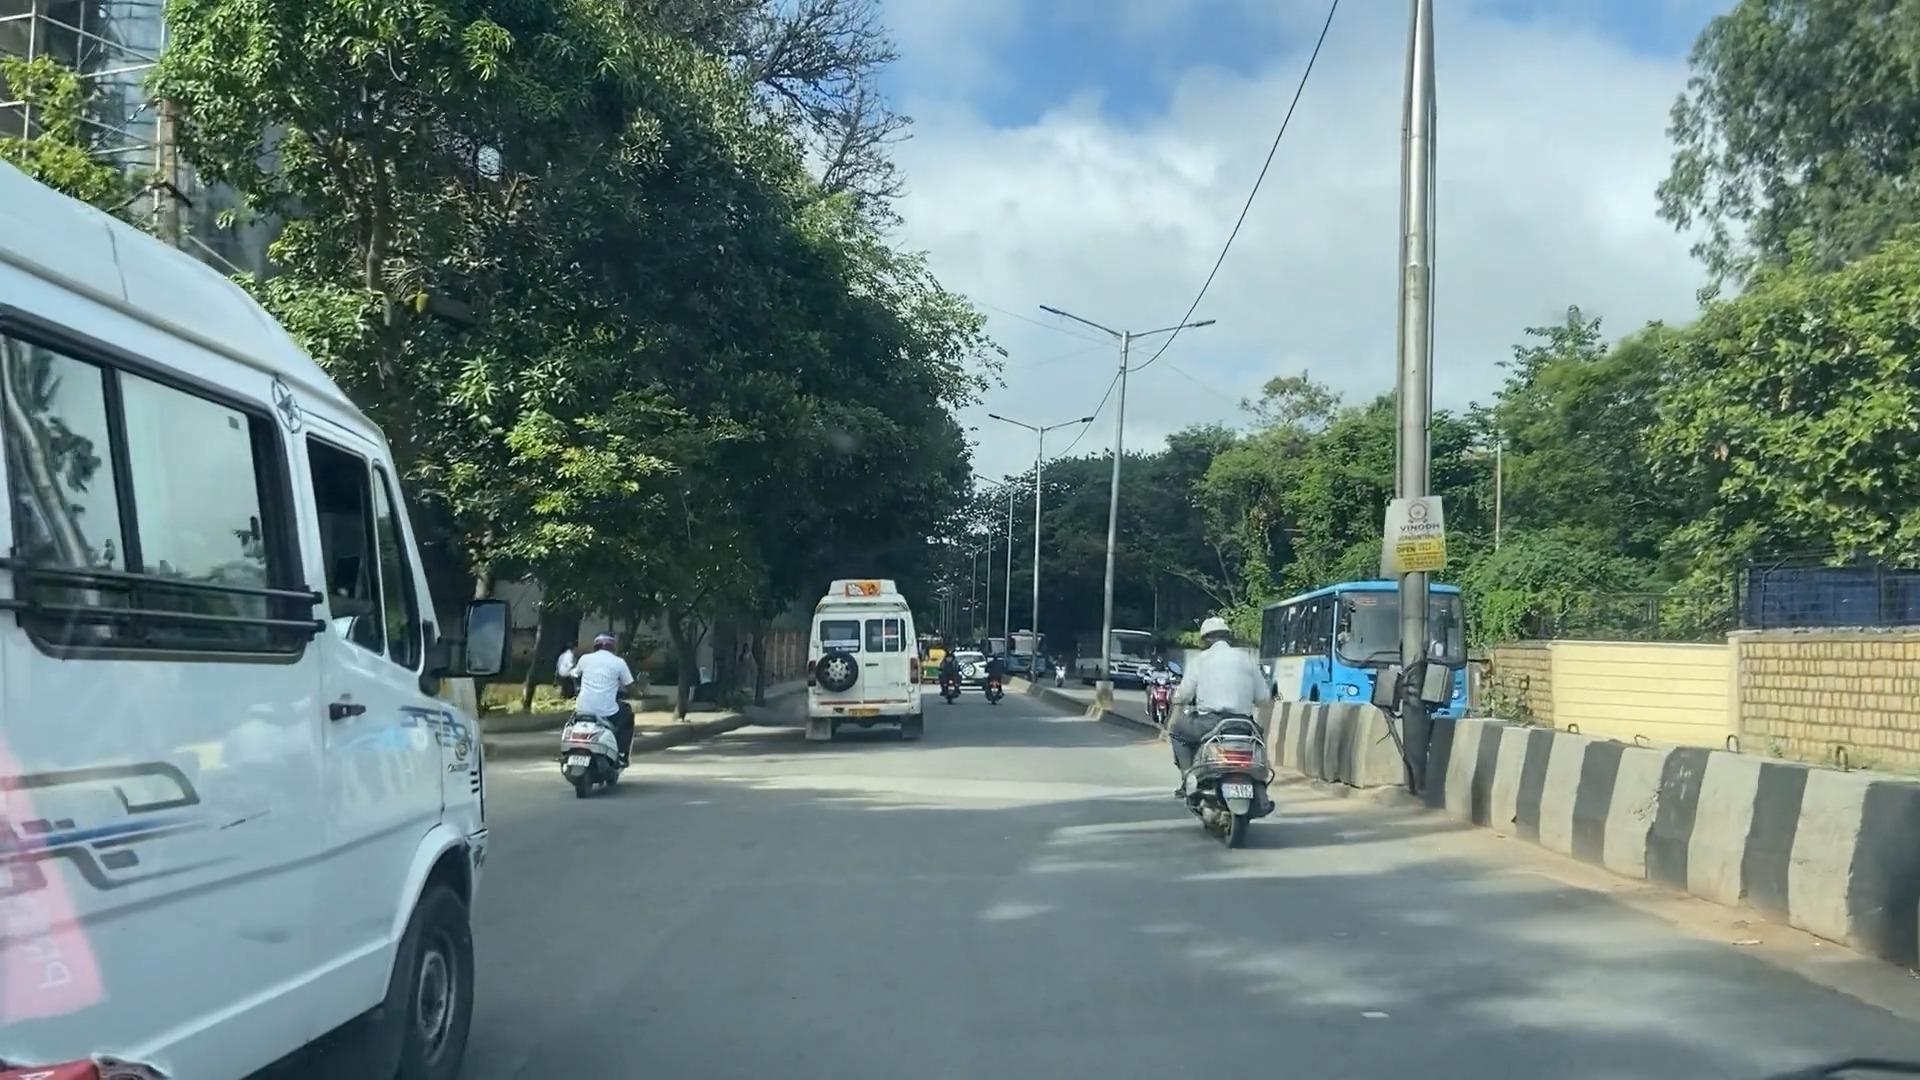HMV: (0, 148, 521, 1080), (795, 558, 942, 766)
LMV: (1146, 618, 1279, 858), (555, 618, 647, 812)
